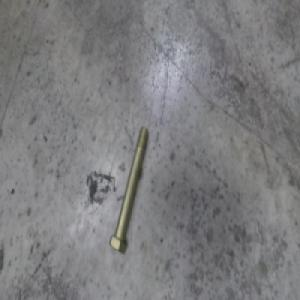Bolt: (110, 129, 148, 253)
